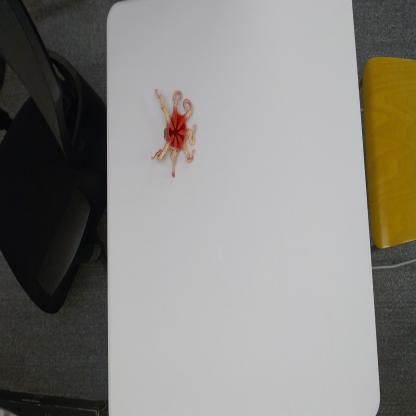Octopus: (150, 82, 199, 180)
